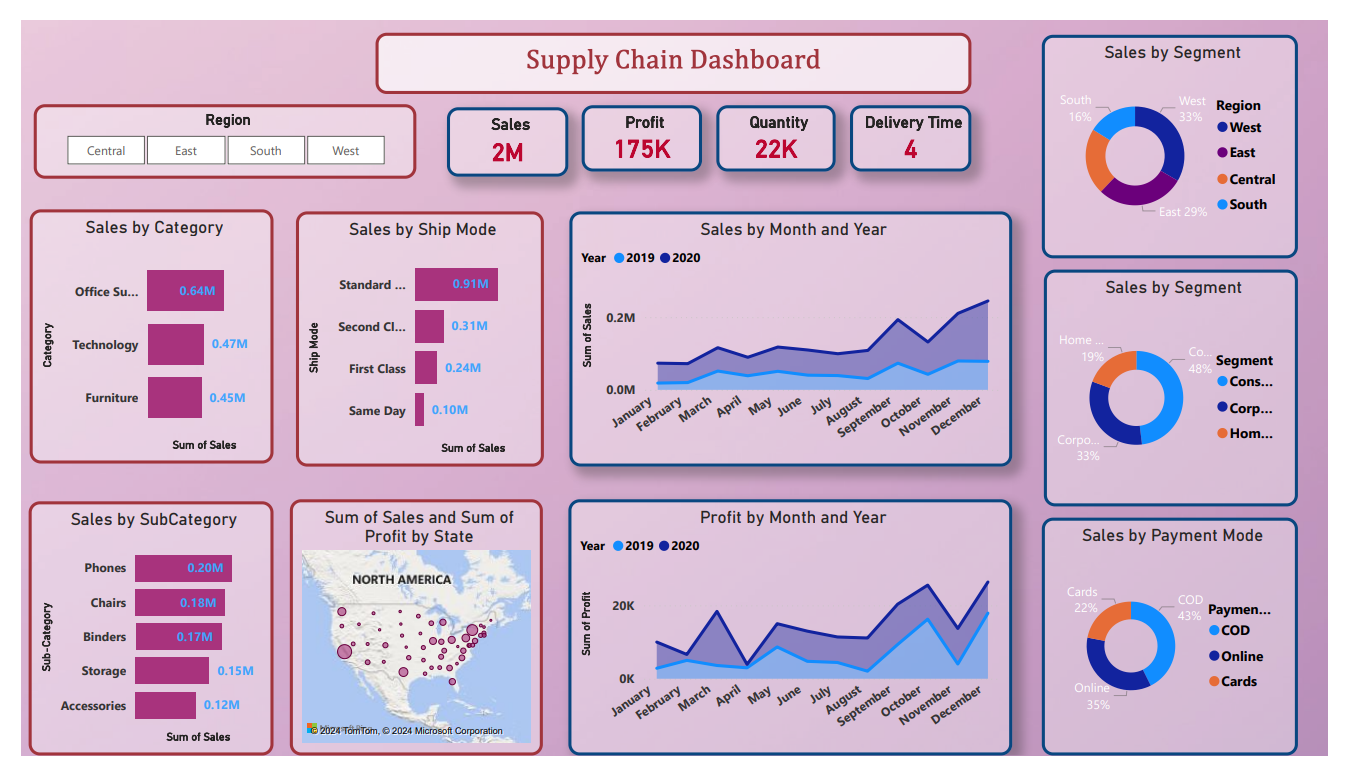

This screenshot's page, from the dashboard's own definition file:
{"tool":"powerbi","page":{"name":"Dashboard","canvas":[1280,720],"ordinal":0},"visuals":[{"type":"clusteredBarChart","title":"Sales by Category","fields":{"Category":["Supply Chain.Category"],"Y":["Sum(Supply Chain.Sales)"]},"box":[8.4,184.6,238.9,249.7],"z":0},{"type":"barChart","title":"Sales by SubCategory","fields":{"Category":["Supply Chain.Sub-Category","Supply Chain.Category"],"Y":["Sum(Supply Chain.Sales)"]},"box":[7,470.7,239.5,249.3],"z":1000},{"type":"clusteredBarChart","title":"Sales by Ship Mode","fields":{"Category":["Supply Chain.Ship Mode"],"Y":["Sum(Supply Chain.Sales)"]},"box":[269,187,242.5,249.7],"z":2000},{"type":"stackedAreaChart","title":"Sales by Month and Year","fields":{"Y":["Sum(Supply Chain.Sales)"],"Category":["Supply Chain.Order Date.Variation.Date Hierarchy.Month","Supply Chain.Order Date.Variation.Date Hierarchy.Day"],"Series":["Supply Chain.Order Date.Variation.Date Hierarchy.Year"]},"box":[536.9,187,434.3,249.7],"z":3000},{"type":"stackedAreaChart","title":"Profit by Month and Year","fields":{"Category":["Supply Chain.Order Date.Variation.Date Hierarchy.Month","Supply Chain.Order Date.Variation.Date Hierarchy.Day"],"Series":["Supply Chain.Order Date.Variation.Date Hierarchy.Year"],"Y":["Sum(Supply Chain.Profit)"]},"box":[536.5,469.3,434.2,250.7],"z":4000},{"type":"map","fields":{"Category":["Supply Chain.State"],"Size":["Sum(Supply Chain.Sales)"]},"box":[263.3,469.3,247.9,250.7],"z":5000},{"type":"donutChart","title":"Sales by Segment","fields":{"Category":["Supply Chain.Segment"],"Y":["Sum(Supply Chain.Sales)"]},"box":[1001.5,243.7,249.3,232.5],"z":6000},{"type":"donutChart","title":"Sales by Payment Mode","fields":{"Category":["Supply Chain.Payment Mode","Supply Chain.Segment"],"Y":["Sum(Supply Chain.Sales)"]},"box":[1000.1,487.5,250.7,232.5],"z":7000},{"type":"slicer","title":"Region","fields":{"Values":["Supply Chain.Region"]},"box":[12.3,82.3,374.6,72.7],"z":8000},{"type":"card","title":"Sales","fields":{"Values":["Sum(Supply Chain.Sales)"]},"box":[417.4,85.4,119.1,67.2],"z":10000},{"type":"card","title":"Profit","fields":{"Values":["Sum(Supply Chain.Profit)"]},"box":[549.1,82.6,117.7,65.8],"z":11000},{"type":"card","title":"Quantity","fields":{"Values":["Sum(Supply Chain.Quantity)"]},"box":[680.8,82.6,117.7,65.8],"z":12000},{"type":"card","title":"Delivery Time","fields":{"Values":["Avg(Supply Chain.AvgDelivery)"]},"box":[812.4,82.6,119.1,65.8],"z":13000},{"type":"donutChart","title":"Sales by Segment","fields":{"Category":["Supply Chain.Region"],"Y":["Sum(Supply Chain.Sales)"]},"box":[1000.1,14,250.7,218.5],"z":13001}]}

Visuals, with their boxes in screenshot pixels (x1, y1, x2, y2), scaled from the page's 1280x720 canvas onto the 1351x772 screenshot:
"Sales by Category" clusteredBarChart: [9, 198, 261, 466]
"Sales by SubCategory" barChart: [7, 505, 260, 771]
"Sales by Ship Mode" clusteredBarChart: [284, 201, 540, 468]
"Sales by Month and Year" stackedAreaChart: [567, 201, 1025, 468]
"Profit by Month and Year" stackedAreaChart: [566, 503, 1025, 771]
map - Supply Chain.State x Sum(Supply Chain.Sales): [278, 503, 540, 771]
"Sales by Segment" donutChart: [1057, 261, 1320, 511]
"Sales by Payment Mode" donutChart: [1056, 523, 1320, 771]
"Region" slicer: [13, 88, 408, 166]
"Sales" card: [441, 92, 566, 164]
"Profit" card: [580, 89, 704, 159]
"Quantity" card: [719, 89, 843, 159]
"Delivery Time" card: [857, 89, 983, 159]
"Sales by Segment" donutChart: [1056, 15, 1320, 249]
